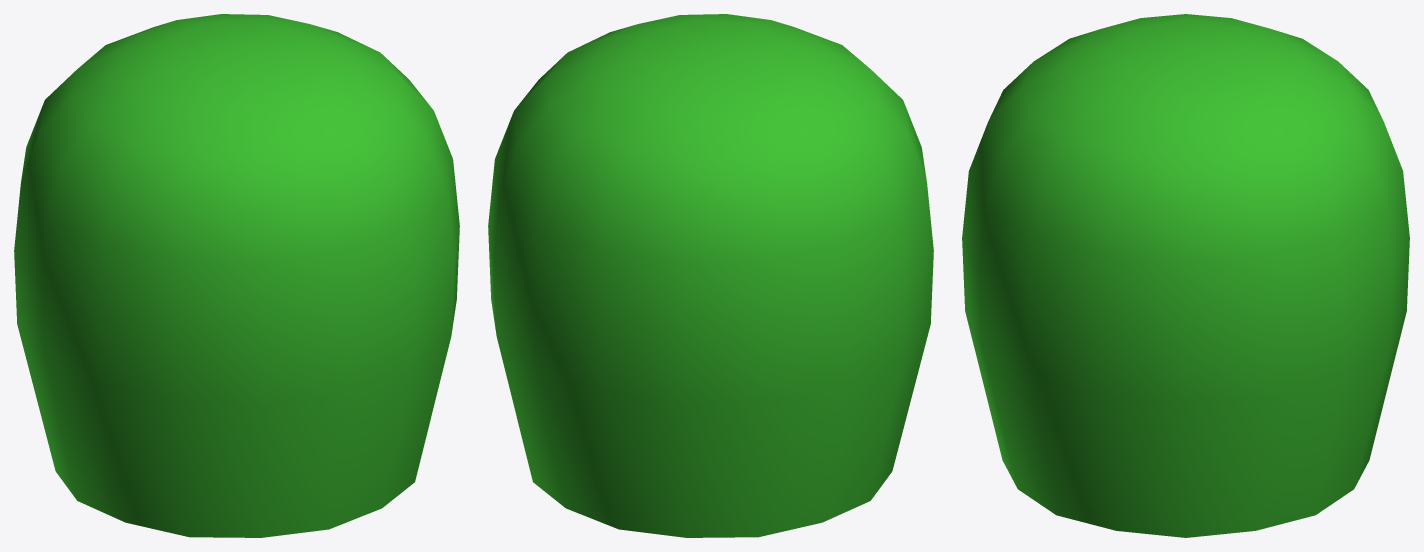
The model's file is cactus_top.fbx.
3 renders of one model, left to right at view 1: azimuth 30°, elevation 25°; view 2: azimuth 150°, elevation 25°; view 3: azimuth 270°, elevation 25°, orthographic.
Parts seen in each view (by area): view 1: cactus_top; view 2: cactus_top; view 3: cactus_top.
Part boxes in pixels (x1,y1,x2,y2): cactus_top: (14,14,459,537); cactus_top: (488,14,933,537); cactus_top: (962,14,1409,537).
Bounding box in the file's own units: 100 × 103 × 100.
